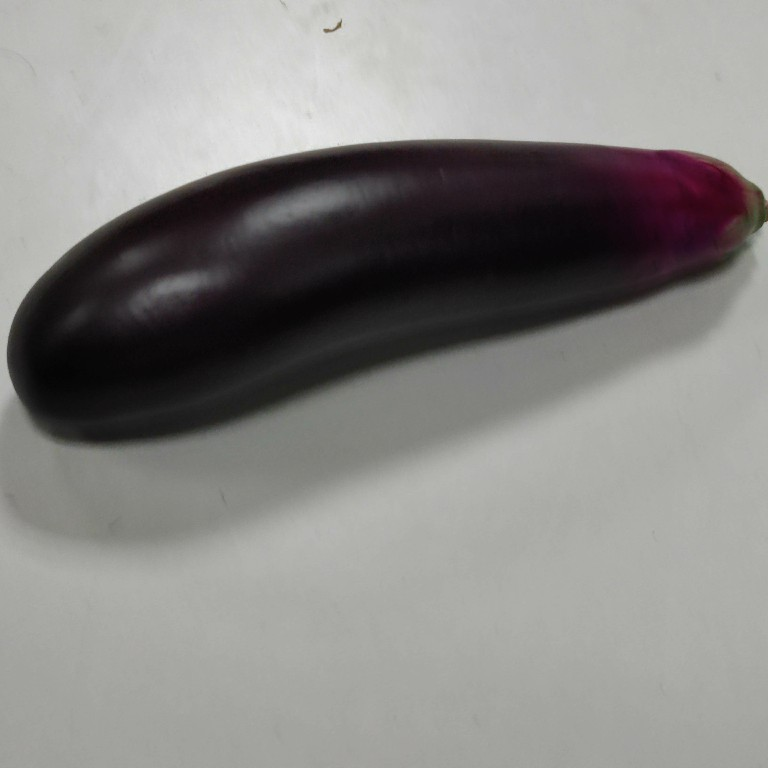fruit_eggplant: (3, 137, 768, 450)
